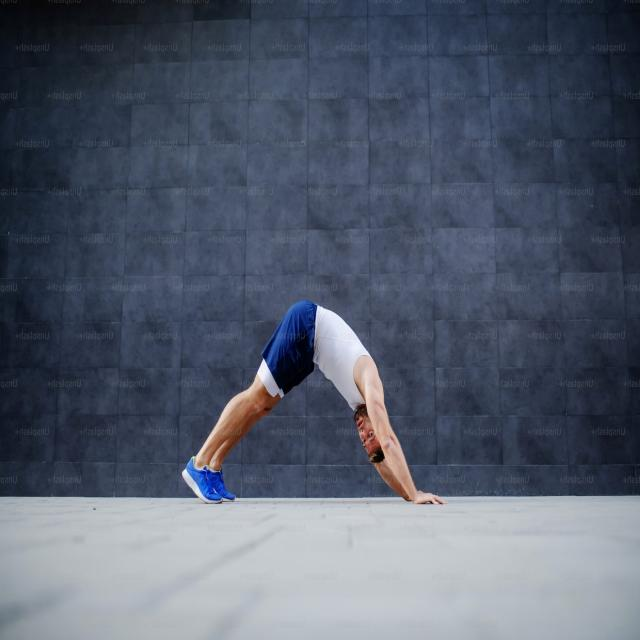adult: (183, 300, 445, 506)
